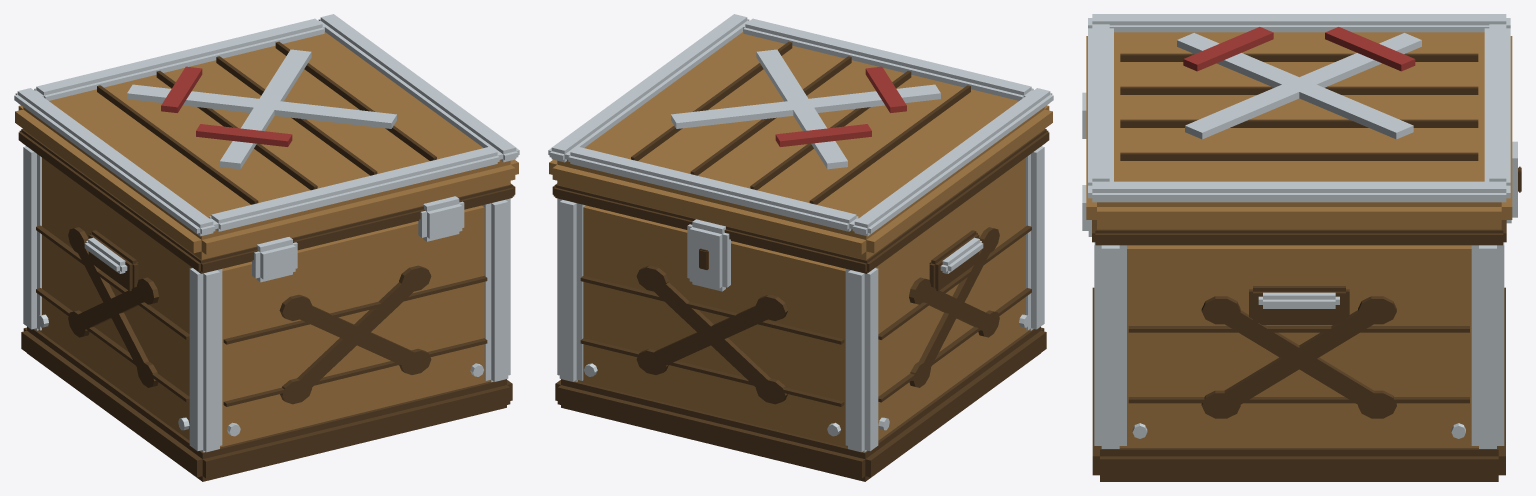
The model's file is crate_espadas.fbx.
3 renders of one model, left to right at view 1: azimuth 30°, elevation 25°; view 2: azimuth 150°, elevation 25°; view 3: azimuth 270°, elevation 25°, orthographic. The views are drawn at different scales.
Parts seen in each view (by area): view 1: crate_espadas_caixa; view 2: crate_espadas_caixa; view 3: crate_espadas_caixa.
Part boxes in pixels (left/top/right/bottom): crate_espadas_caixa: left=14, top=14, right=519, bottom=481; crate_espadas_caixa: left=548, top=14, right=1053, bottom=481; crate_espadas_caixa: left=1082, top=14, right=1521, bottom=481.
Size of the model in its own units: 2.68 by 2.19 by 2.7.
Materials: 1 (1 with a texture image).
